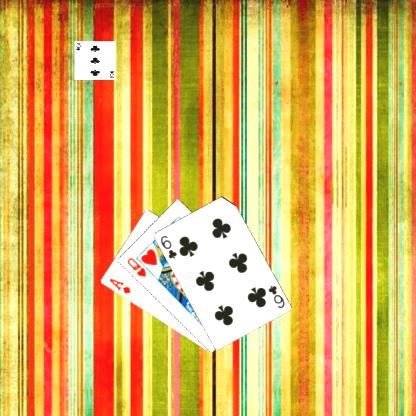6C: (158, 232, 178, 260), (266, 282, 286, 310)
AD: (106, 276, 132, 295)
QH: (124, 255, 147, 278)
